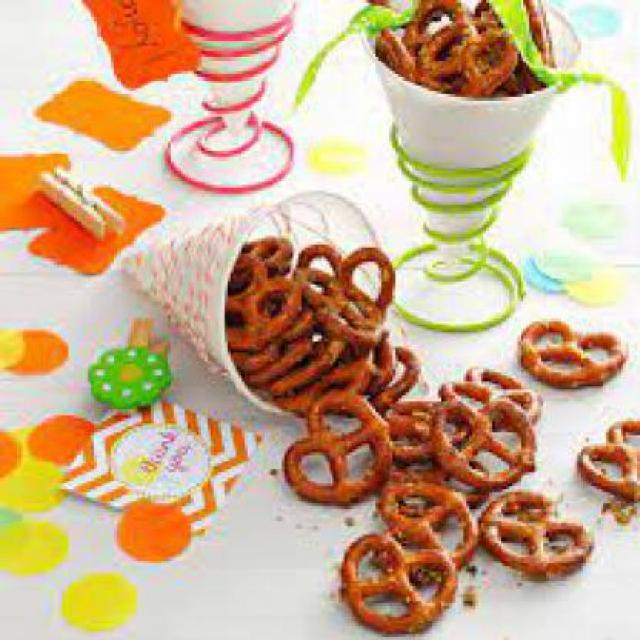Salatini packaged: (238, 248, 637, 606)
